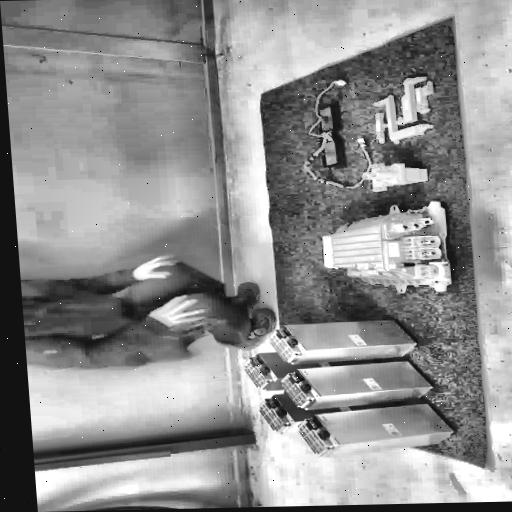battery_module: (297, 402, 455, 458), (280, 359, 436, 410), (267, 319, 419, 365), (258, 394, 296, 434), (240, 353, 278, 391)
bms_unit: (310, 201, 465, 298)
busbar: (366, 73, 444, 146)
connector: (363, 161, 427, 191)
high_volt_cable: (299, 73, 377, 193)
